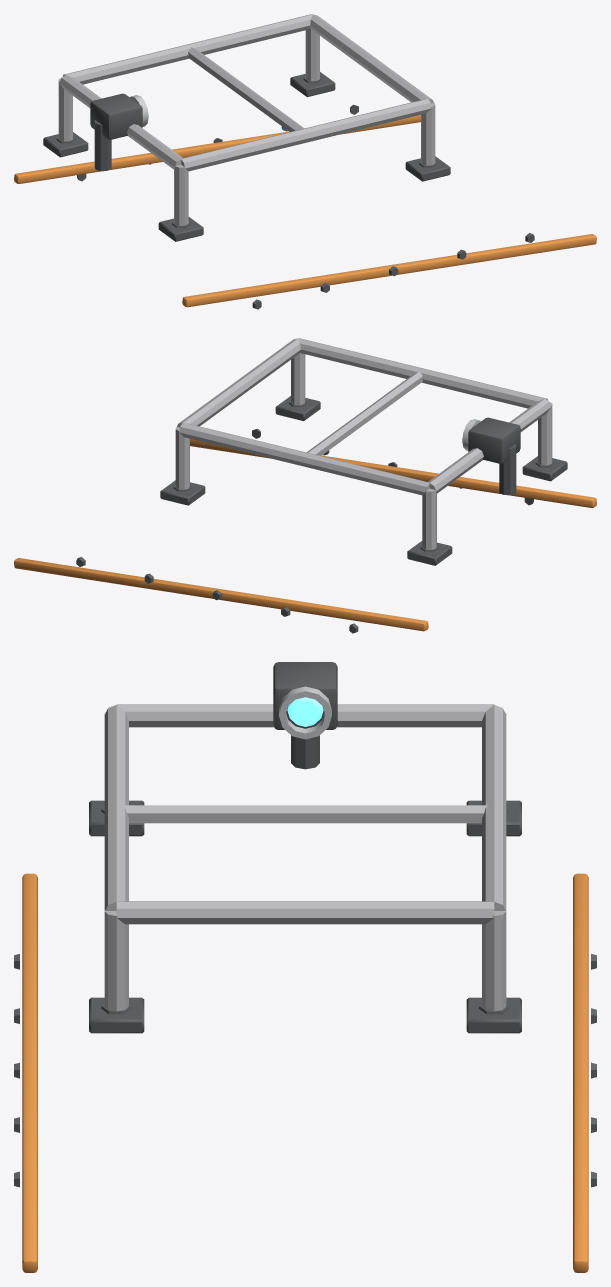
The model's file is bandsaw_hull.glb.
The picture shows the model from 3 angles, top to bottom: view 1: azimuth 30°, elevation 25°; view 2: azimuth 150°, elevation 25°; view 3: azimuth 270°, elevation 25°; orthographic projection. The views are drawn at different scales.
Visible parts, largest first — view 1: overlay; view 2: overlay; view 3: overlay.
Boxes of the visible parts, <box> form: overlay: <box>14,14,596,309</box>; overlay: <box>14,338,596,633</box>; overlay: <box>14,662,596,1272</box>.
Bounding box in the file's own units: 0.7077 × 0.2856 × 0.525.
